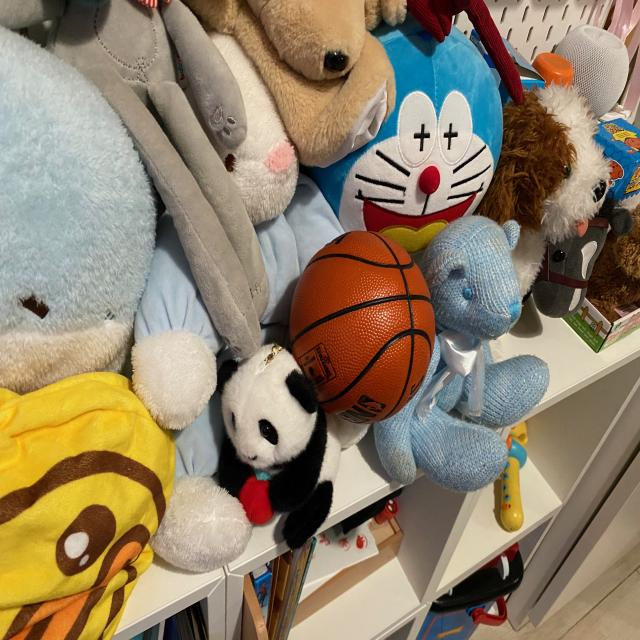Ball: (281, 221, 444, 434)
